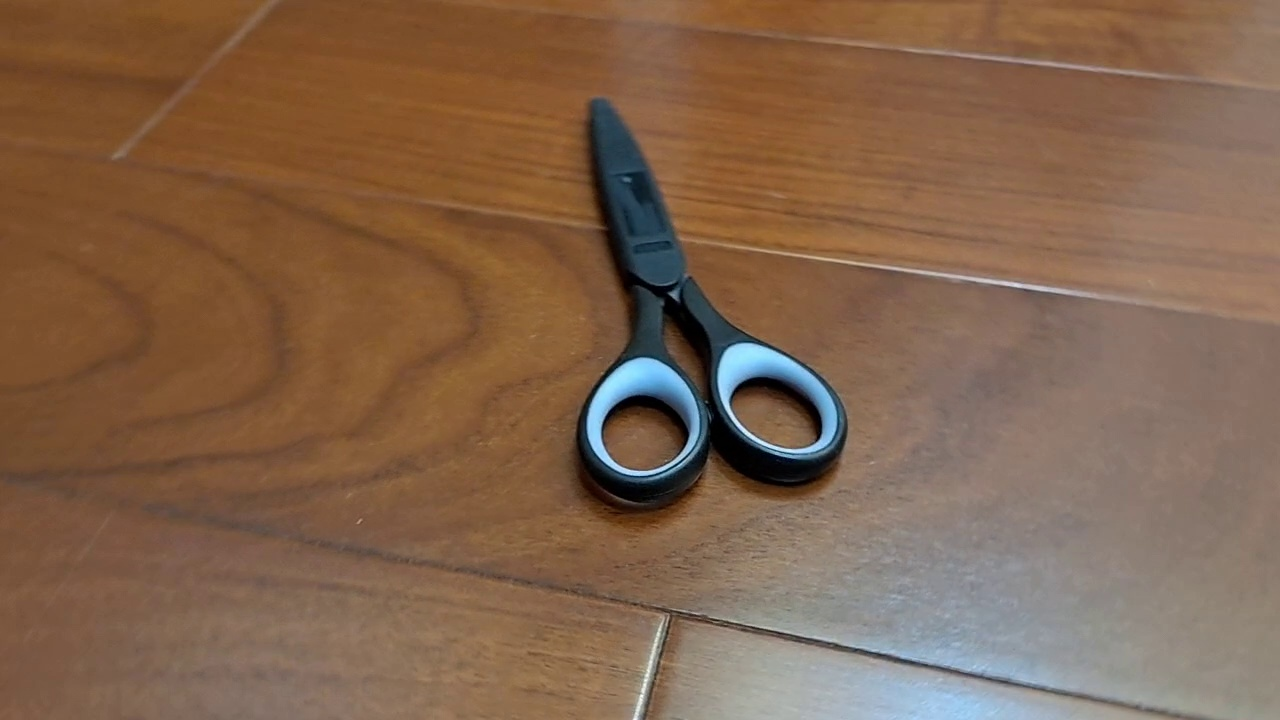scissors: (575, 96, 849, 508)
